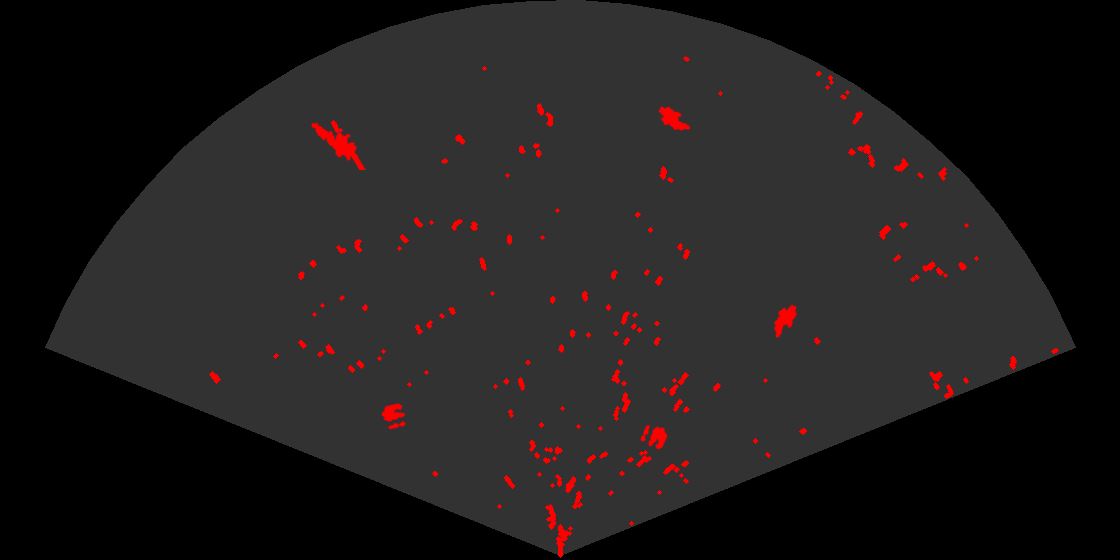AUV: (772, 303, 799, 340), (657, 105, 692, 132)
ball: (639, 423, 669, 452), (380, 402, 408, 431)
frogman: (310, 121, 366, 170)
